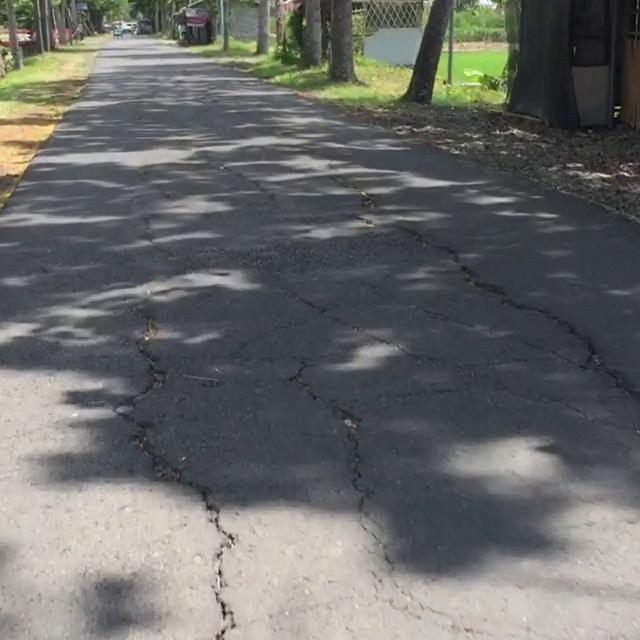retak_memanjang: (418, 241, 640, 640), (79, 258, 261, 640), (290, 326, 417, 614)
